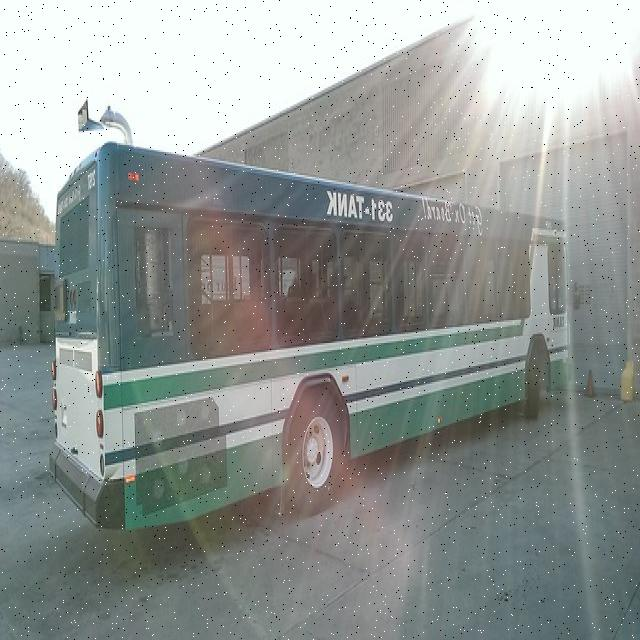Bus: (49, 142, 565, 525)
